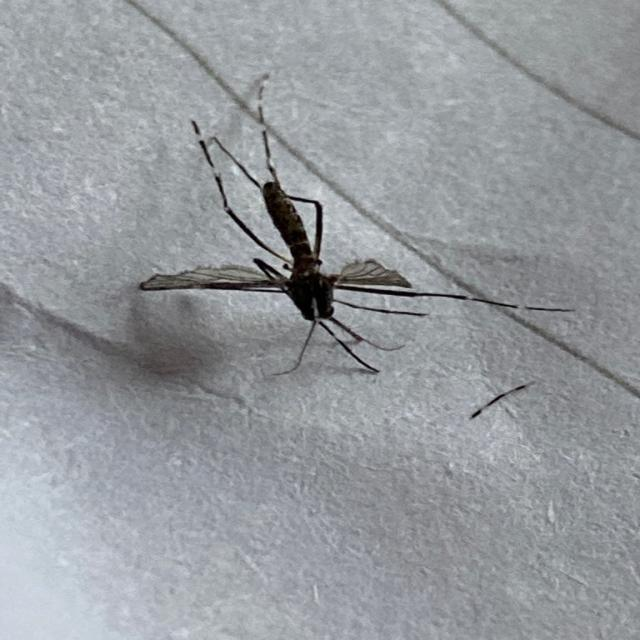albopictus: (137, 70, 571, 387)
